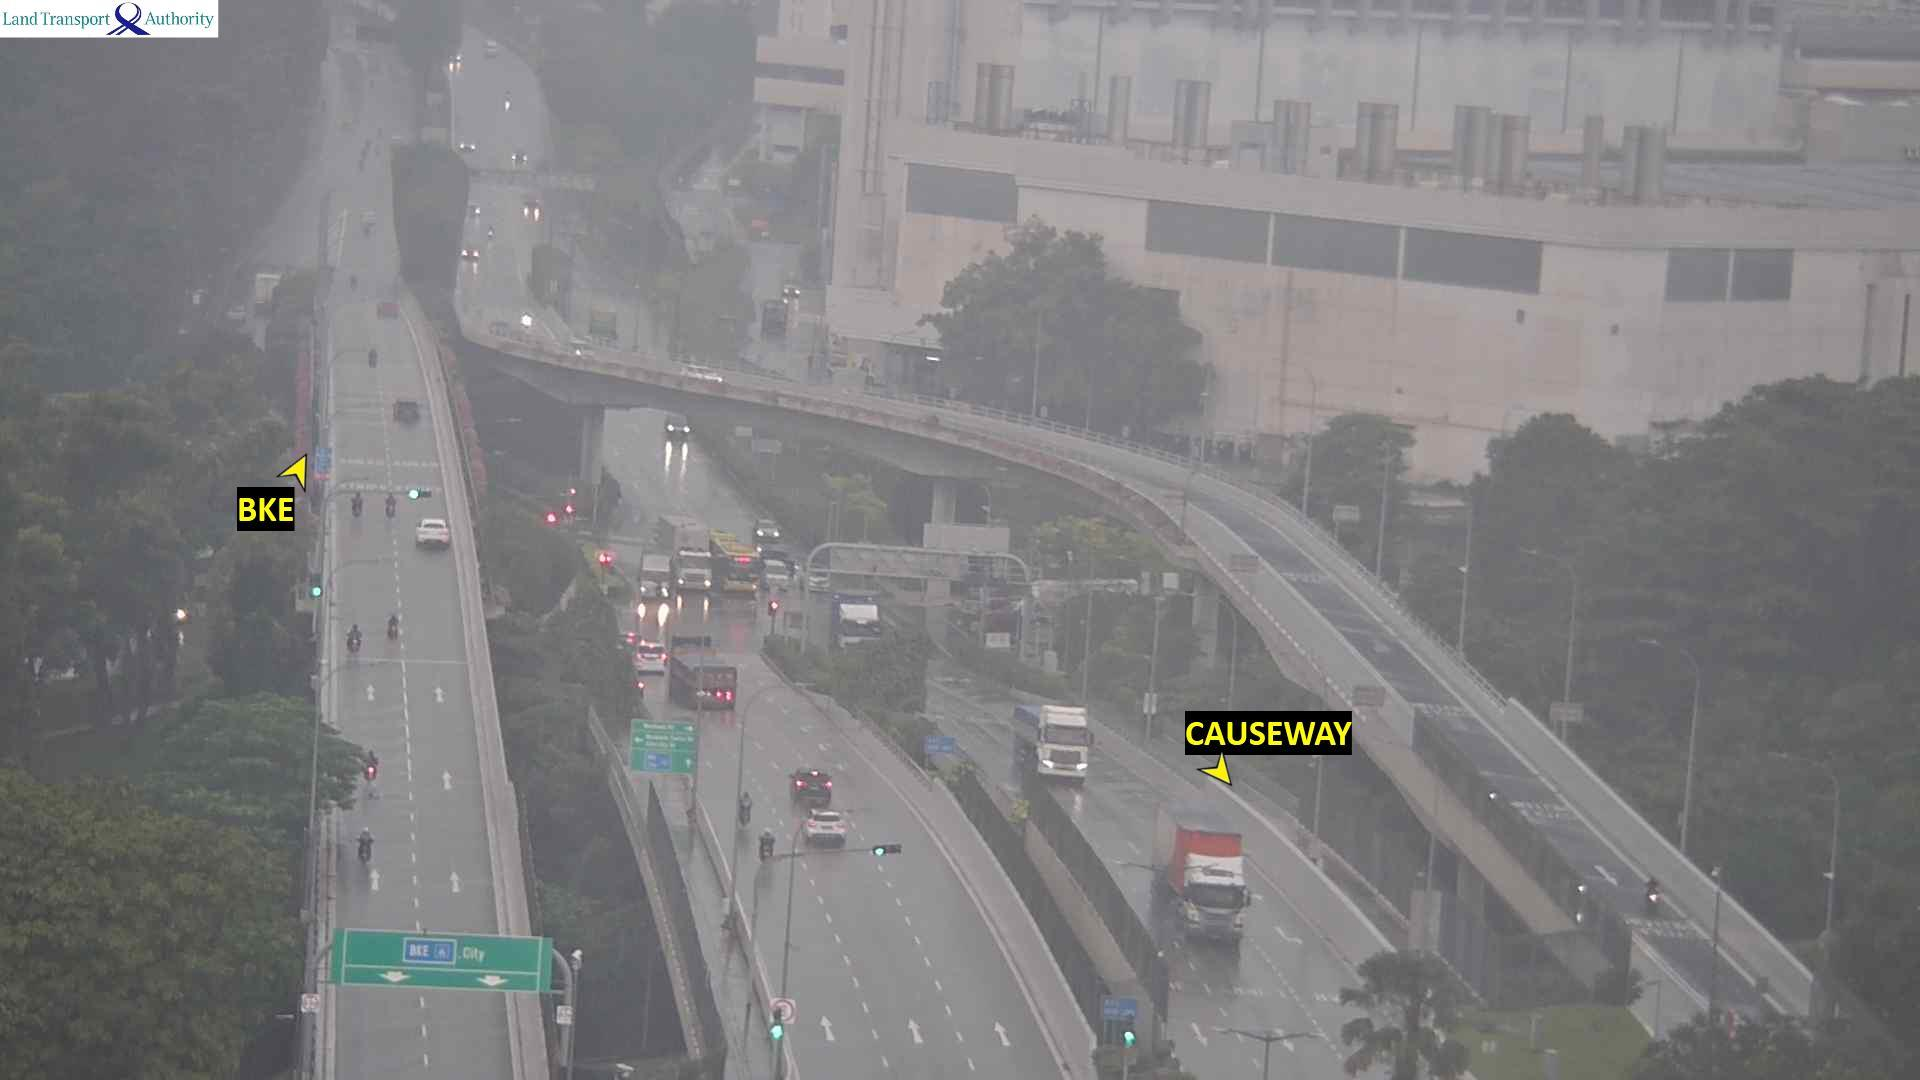vehicle-causeway-johor: (1151, 795, 1250, 923), (1014, 699, 1098, 775), (823, 588, 889, 642), (720, 545, 760, 588), (765, 560, 790, 592), (662, 413, 690, 440), (1647, 884, 1673, 913), (682, 365, 720, 385), (752, 518, 781, 542), (812, 571, 828, 591), (468, 203, 483, 222), (463, 248, 472, 264), (488, 227, 497, 241)
vehicle-causeway-singapore: (678, 662, 744, 705), (790, 769, 843, 803), (804, 815, 855, 845), (418, 521, 448, 551), (393, 400, 421, 423), (353, 832, 371, 865), (636, 646, 662, 666), (361, 756, 375, 785), (732, 796, 748, 820), (353, 626, 369, 647), (389, 612, 401, 640), (385, 493, 396, 517), (351, 493, 361, 516), (414, 488, 430, 502), (345, 629, 353, 655), (367, 351, 375, 368)
